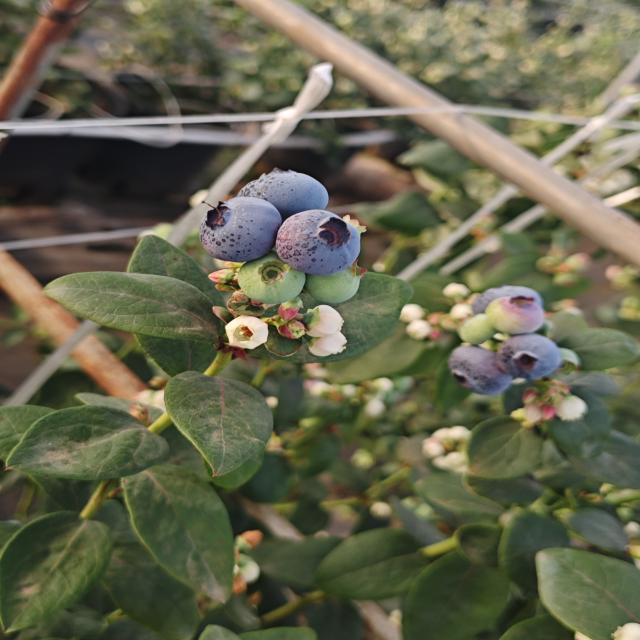ripe: (273, 208, 363, 277), (196, 195, 282, 264), (235, 167, 331, 220), (488, 333, 570, 378), (451, 346, 509, 398), (469, 280, 551, 316)
